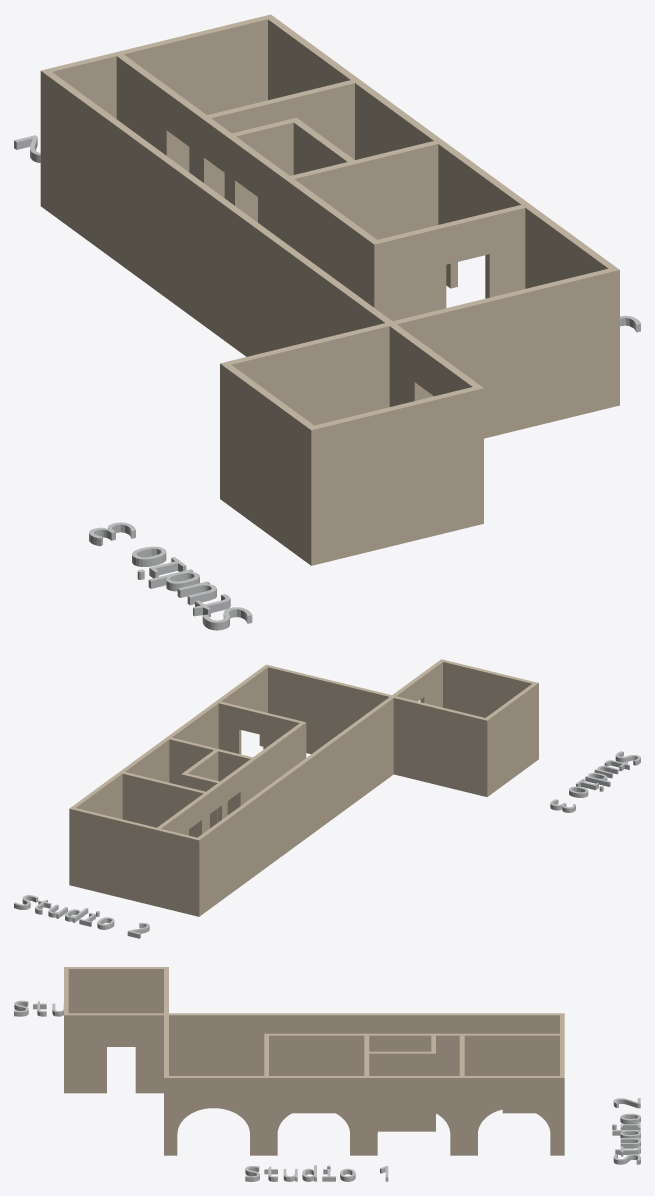
Rendered from studios.glb.
3 renders of one model, top to bottom at view 1: azimuth 30°, elevation 25°; view 2: azimuth 150°, elevation 25°; view 3: azimuth 270°, elevation 25°, orthographic. The views are drawn at different scales.
Parts seen in each view (by area): view 1: Mesh_Mesh_head_geo.001_lambert2SG.001; view 2: Mesh_Mesh_head_geo.001_lambert2SG.001; view 3: Mesh_Mesh_head_geo.001_lambert2SG.001.
Boxes of the visible parts, box(x1,y1,x2,y2) form: Mesh_Mesh_head_geo.001_lambert2SG.001: box(14, 14, 640, 630); Mesh_Mesh_head_geo.001_lambert2SG.001: box(14, 659, 640, 938); Mesh_Mesh_head_geo.001_lambert2SG.001: box(14, 967, 640, 1181).
Size of the model in its own units: 0.088 by 0.018 by 0.1315.
